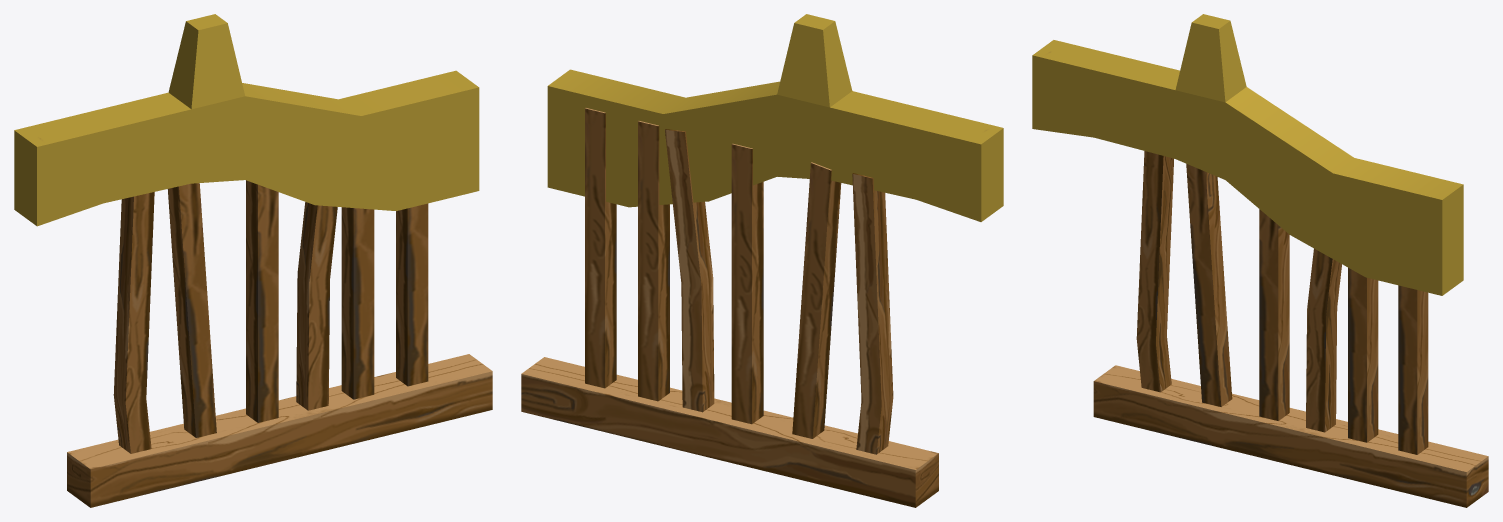
File: Western_Right_Gate.fbx
The picture shows the model from 3 angles, left to right: view 1: azimuth 30°, elevation 25°; view 2: azimuth 150°, elevation 25°; view 3: azimuth 330°, elevation 25°; orthographic projection. The views are drawn at different scales.
Parts seen in each view (by area): view 1: Western_Right_Gate; view 2: Western_Right_Gate; view 3: Western_Right_Gate.
Part boxes in pixels (<box>): Western_Right_Gate: <box>14,14,492,507</box>; Western_Right_Gate: <box>521,14,1003,507</box>; Western_Right_Gate: <box>1032,14,1488,507</box>.
Size of the model in its own units: 365 by 343 by 41.04.
